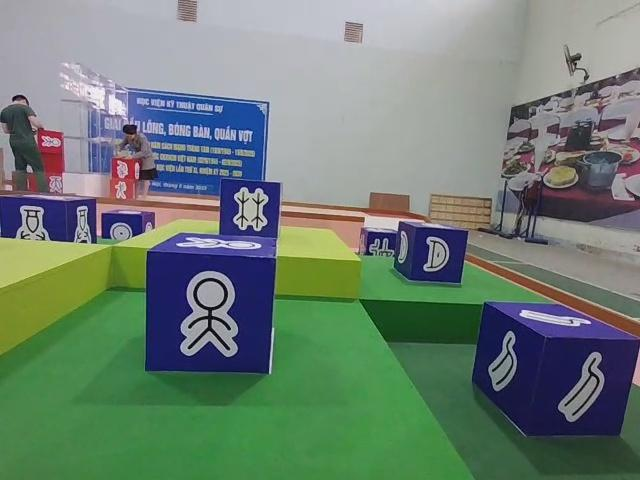R2 Real Blue: (474, 304, 638, 442), (146, 234, 277, 378), (395, 222, 470, 289), (2, 195, 99, 244), (217, 179, 280, 242), (101, 209, 156, 240), (356, 228, 398, 257)
